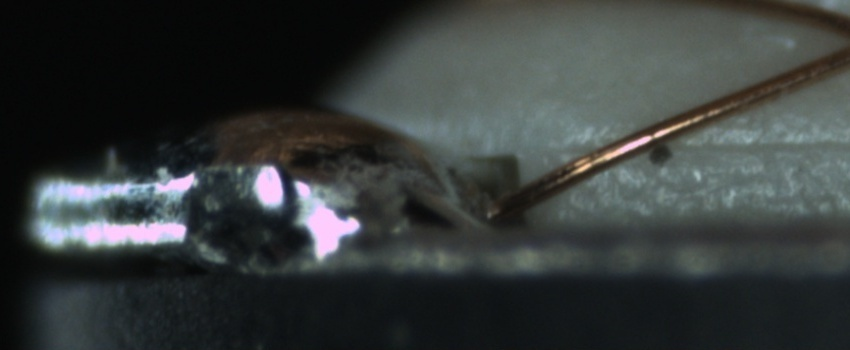DL: (564, 115, 850, 175)
